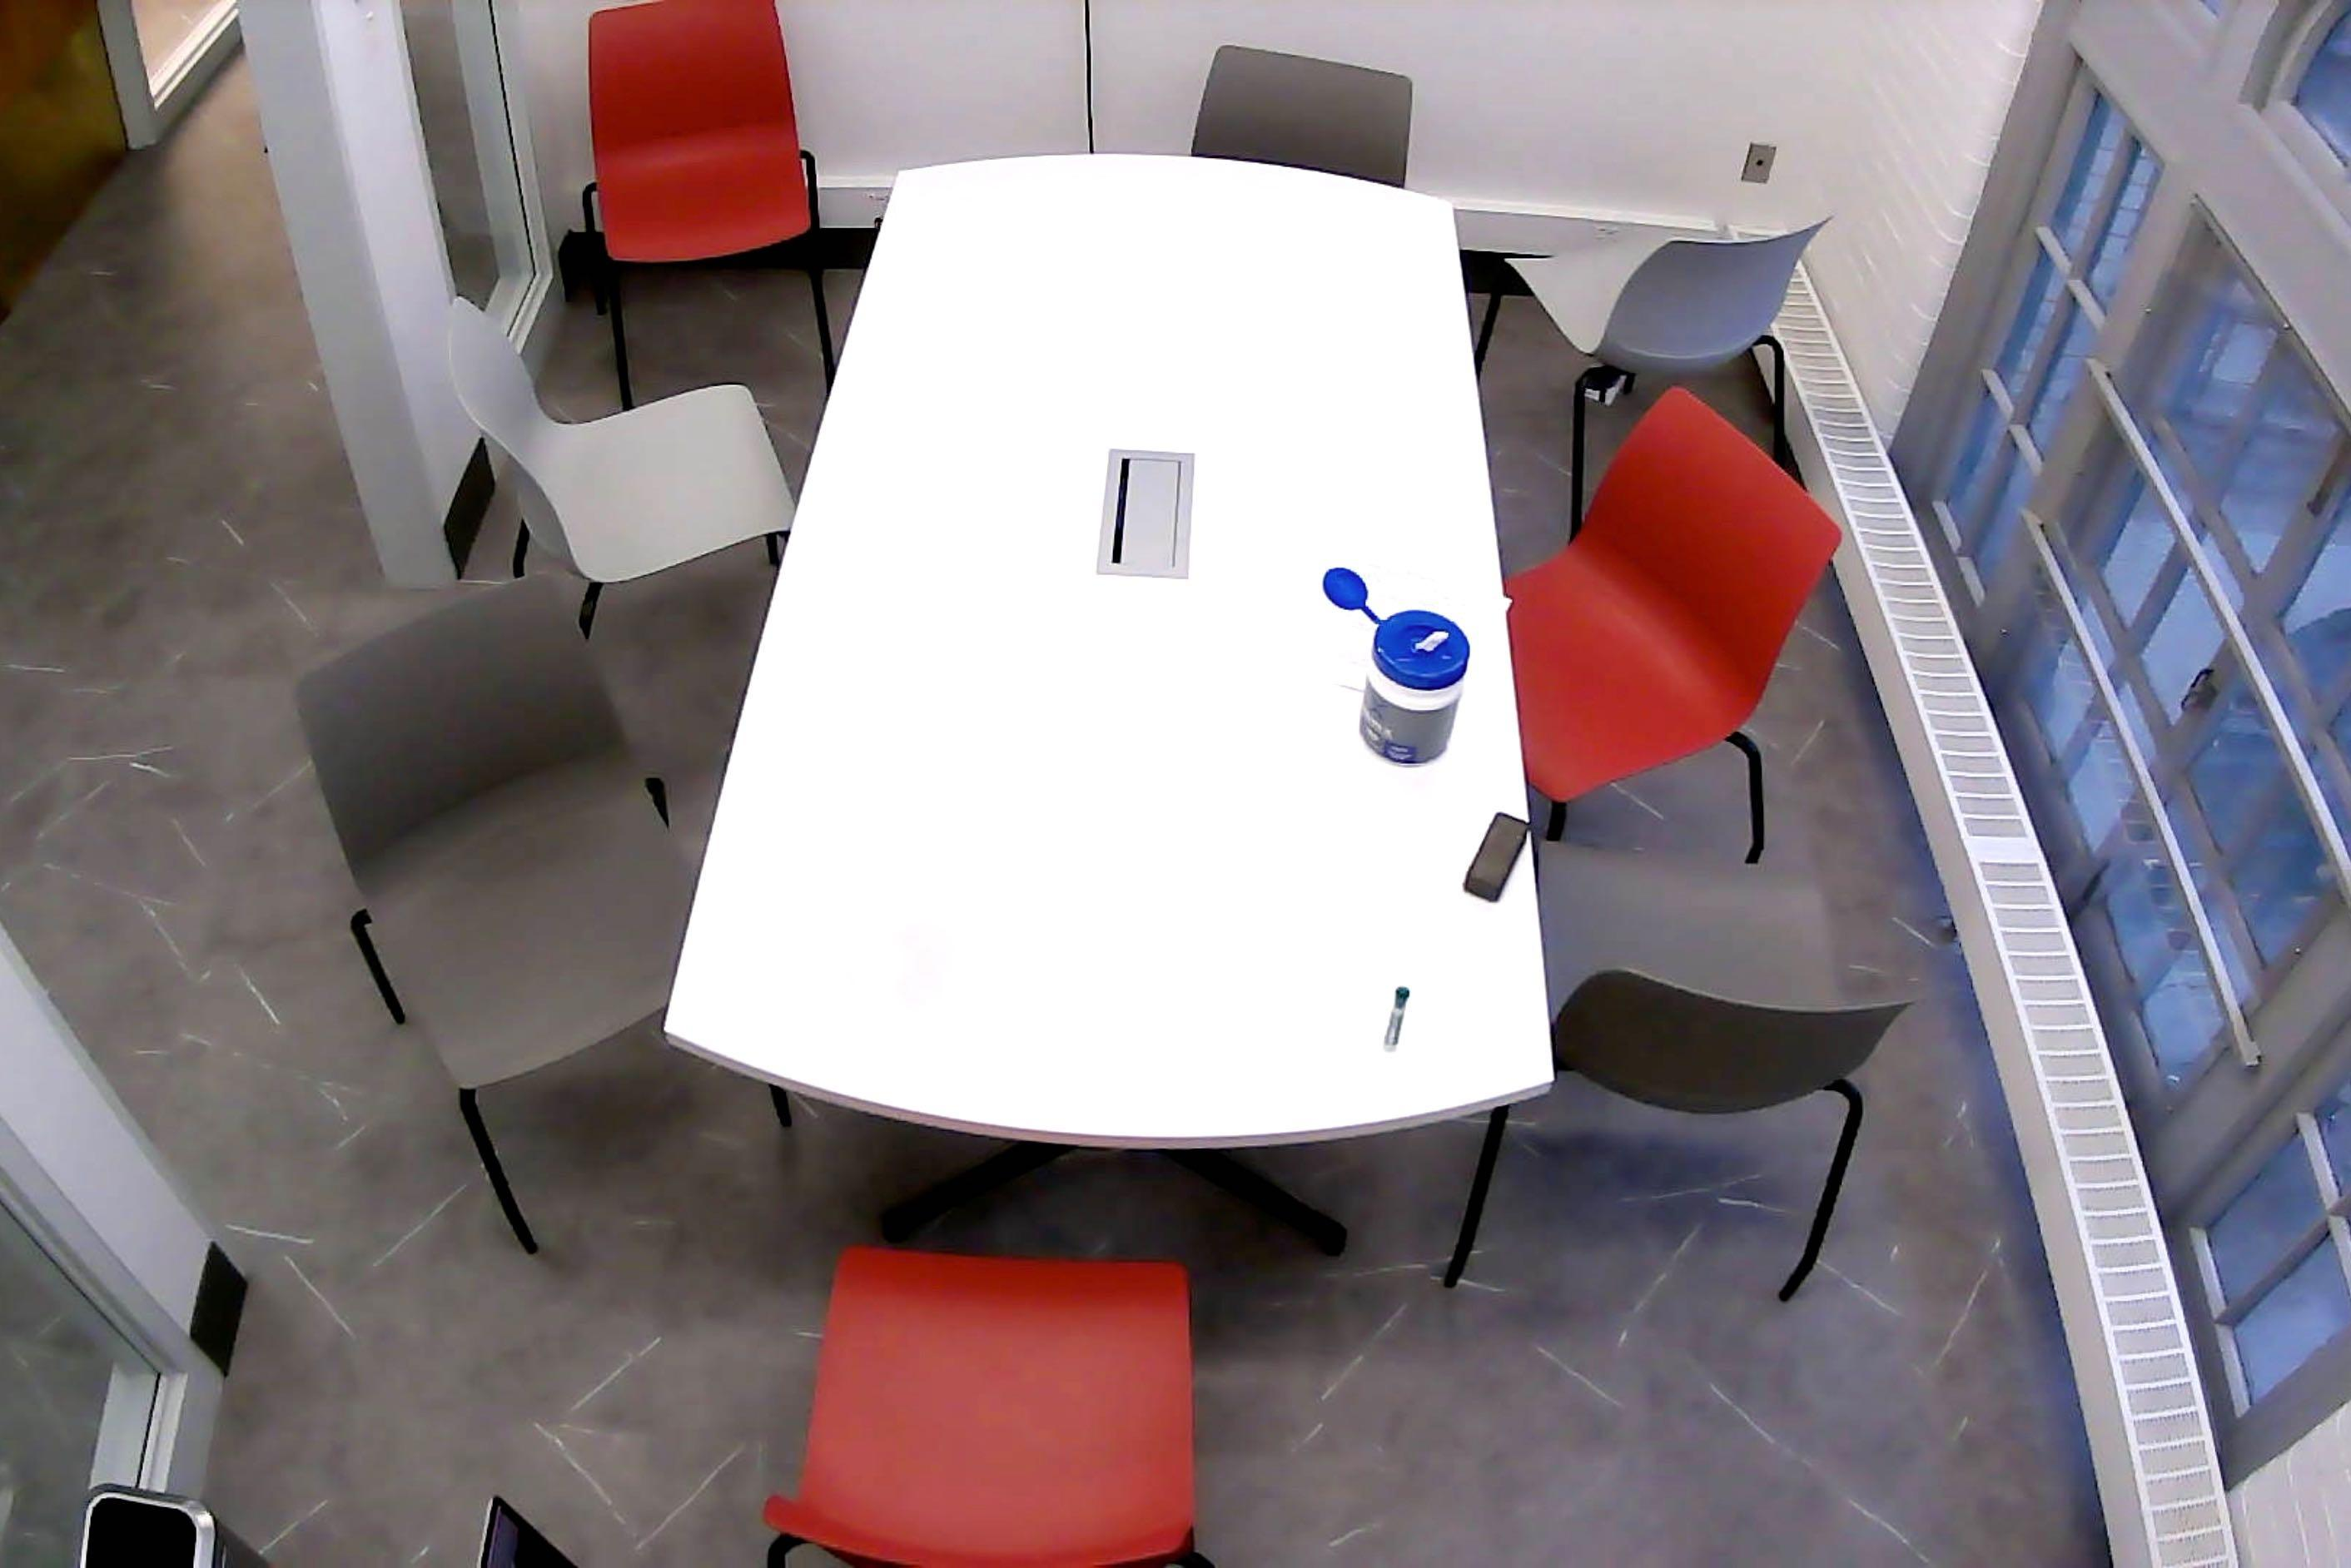Chair: (294, 579, 788, 1262), (1446, 835, 1924, 1302), (1498, 385, 1842, 857), (765, 1241, 1201, 1568), (448, 296, 795, 641), (1474, 210, 1829, 546), (581, 0, 839, 406), (1196, 42, 1409, 201)
Dining Table: (665, 151, 1560, 1262)
